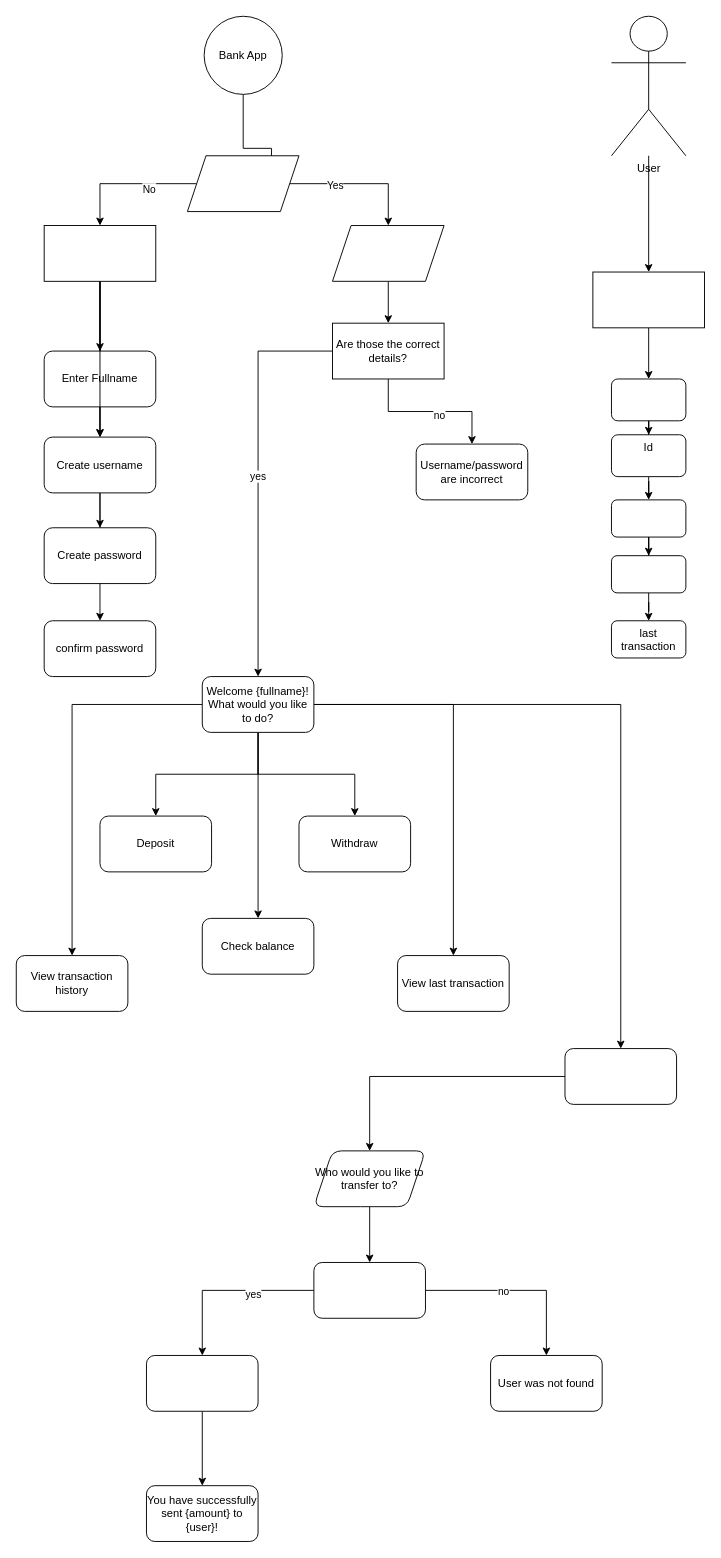
Image size: 721x1558. Some labels were removed from this diagram. The centre of each missing label's shape, as x and y in pixels:
"Balance" belongs at (648,518).
"Create an account" belongs at (99,253).
"Do you have an account" belongs at (242,183).
"Does user exists?" belongs at (369,1290).
"Enter username/password" belongs at (388,253).
"How much would you like to send?" belongs at (202,1383).
"Name" belongs at (648,399).
"Properties" belongs at (648,299).
"Transaction history" belongs at (648,574).
"Transfer to other users" belongs at (620,1076).
